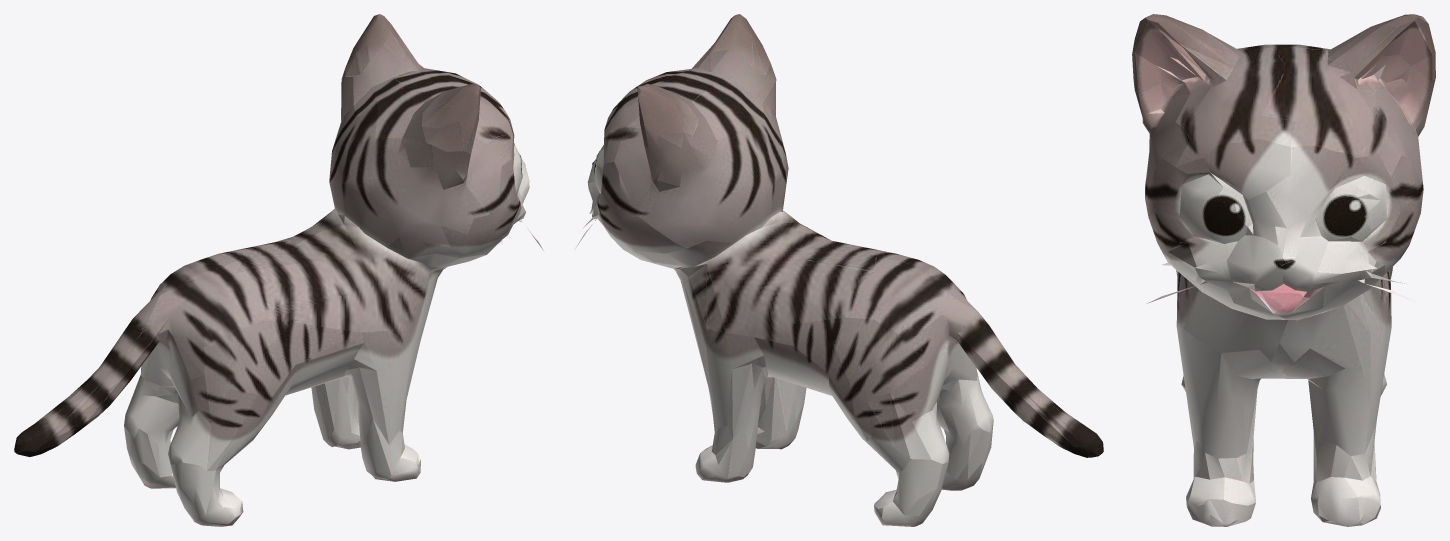
The model's file is CHISWEET-lo.glb.
3 renders of one model, left to right at view 1: azimuth 30°, elevation 25°; view 2: azimuth 150°, elevation 25°; view 3: azimuth 270°, elevation 25°, orthographic. The views are drawn at different scales.
Parts seen in each view (by area): view 1: output_unwrapped; view 2: output_unwrapped; view 3: output_unwrapped.
Boxes of the visible parts, left/top/right/bottom form: output_unwrapped: left=14, top=14, right=543, bottom=526; output_unwrapped: left=574, top=14, right=1103, bottom=526; output_unwrapped: left=1132, top=14, right=1435, bottom=526.
Bounding box in the file's own units: 1.36 × 1 × 0.5151.
1 material, 1 textured.
